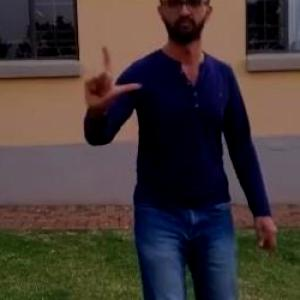land_hand: (78, 36, 144, 110)
